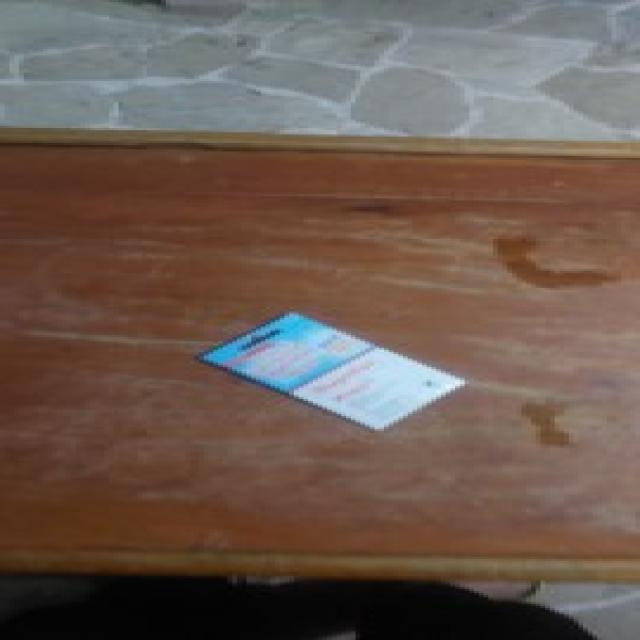Cacat: (198, 312, 472, 434)
